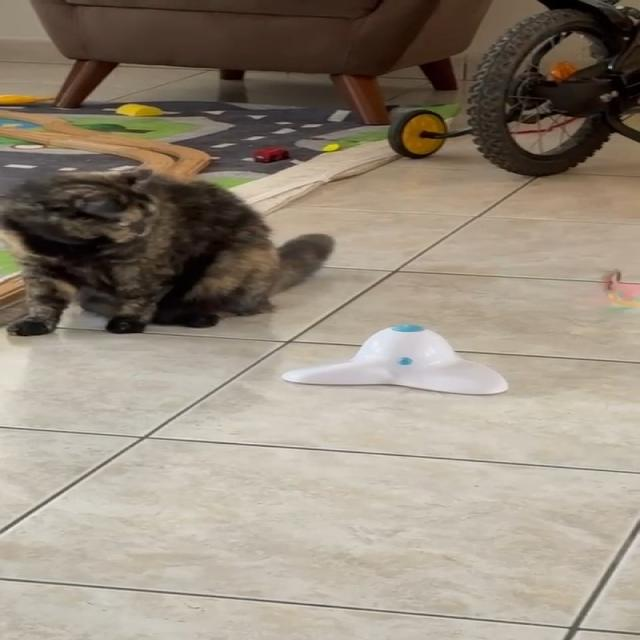authorized: (0, 166, 335, 336)
